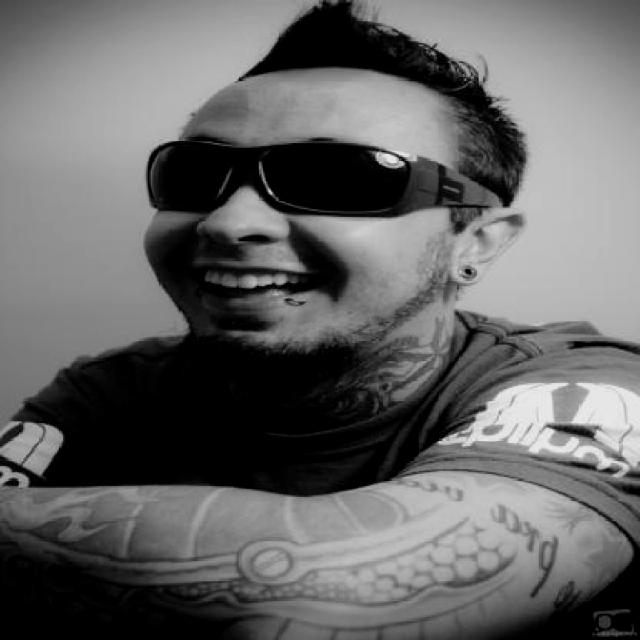face_nomask: (148, 136, 414, 324)
glasses: (144, 144, 502, 211)
head_nohelmet: (225, 29, 509, 113)
